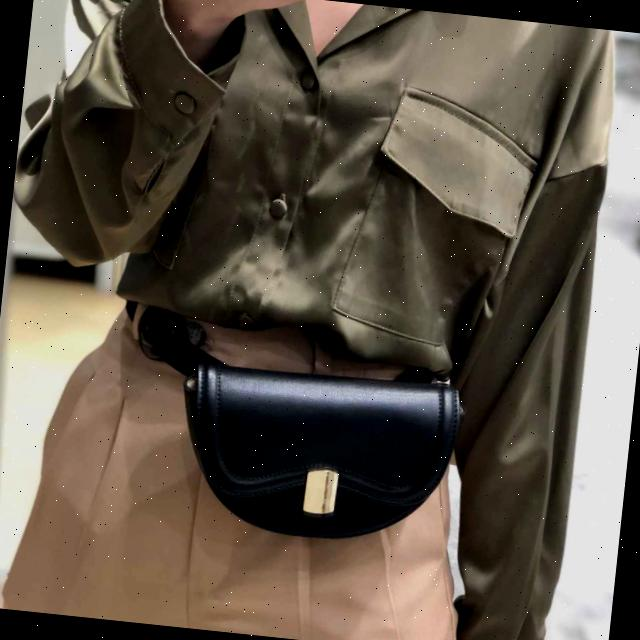Handbag: (168, 338, 466, 554)
